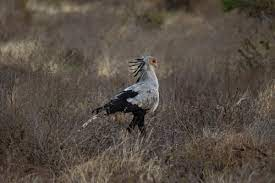Walking: (79, 33, 196, 157)
